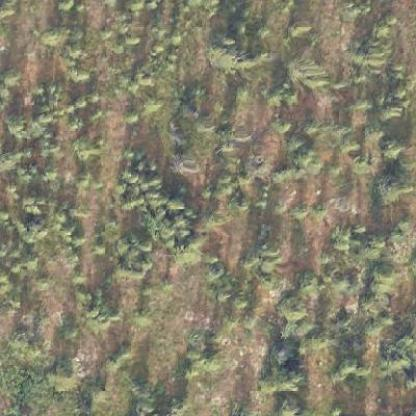tree-top: (249, 365, 309, 397), (284, 51, 329, 93), (373, 172, 410, 208), (171, 238, 207, 265), (278, 297, 311, 322), (36, 24, 62, 50), (73, 168, 94, 190)
